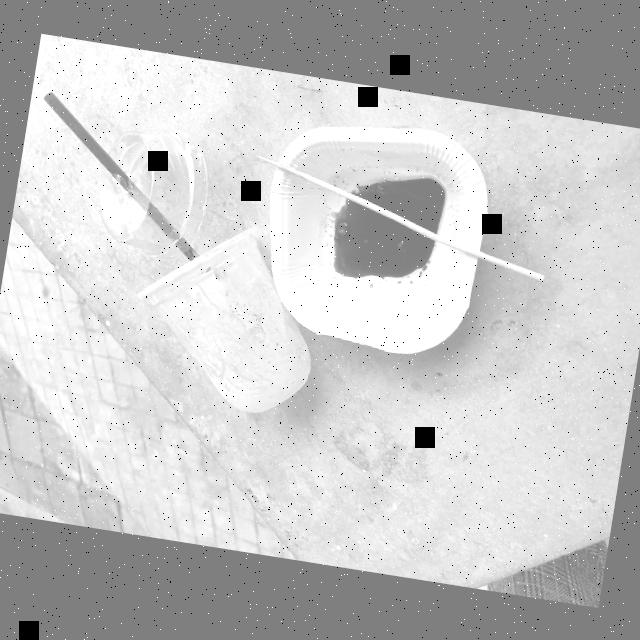cardboard_bowl: (233, 107, 502, 372)
plastic_cup: (114, 227, 336, 429)
plastic_cup_lid: (85, 102, 219, 270)
stick: (245, 131, 558, 291)
straw: (39, 71, 210, 277)
